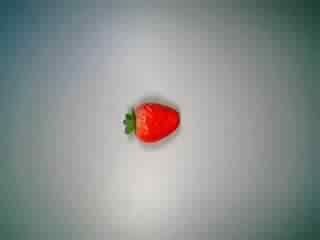strawberry: (118, 92, 184, 154)
